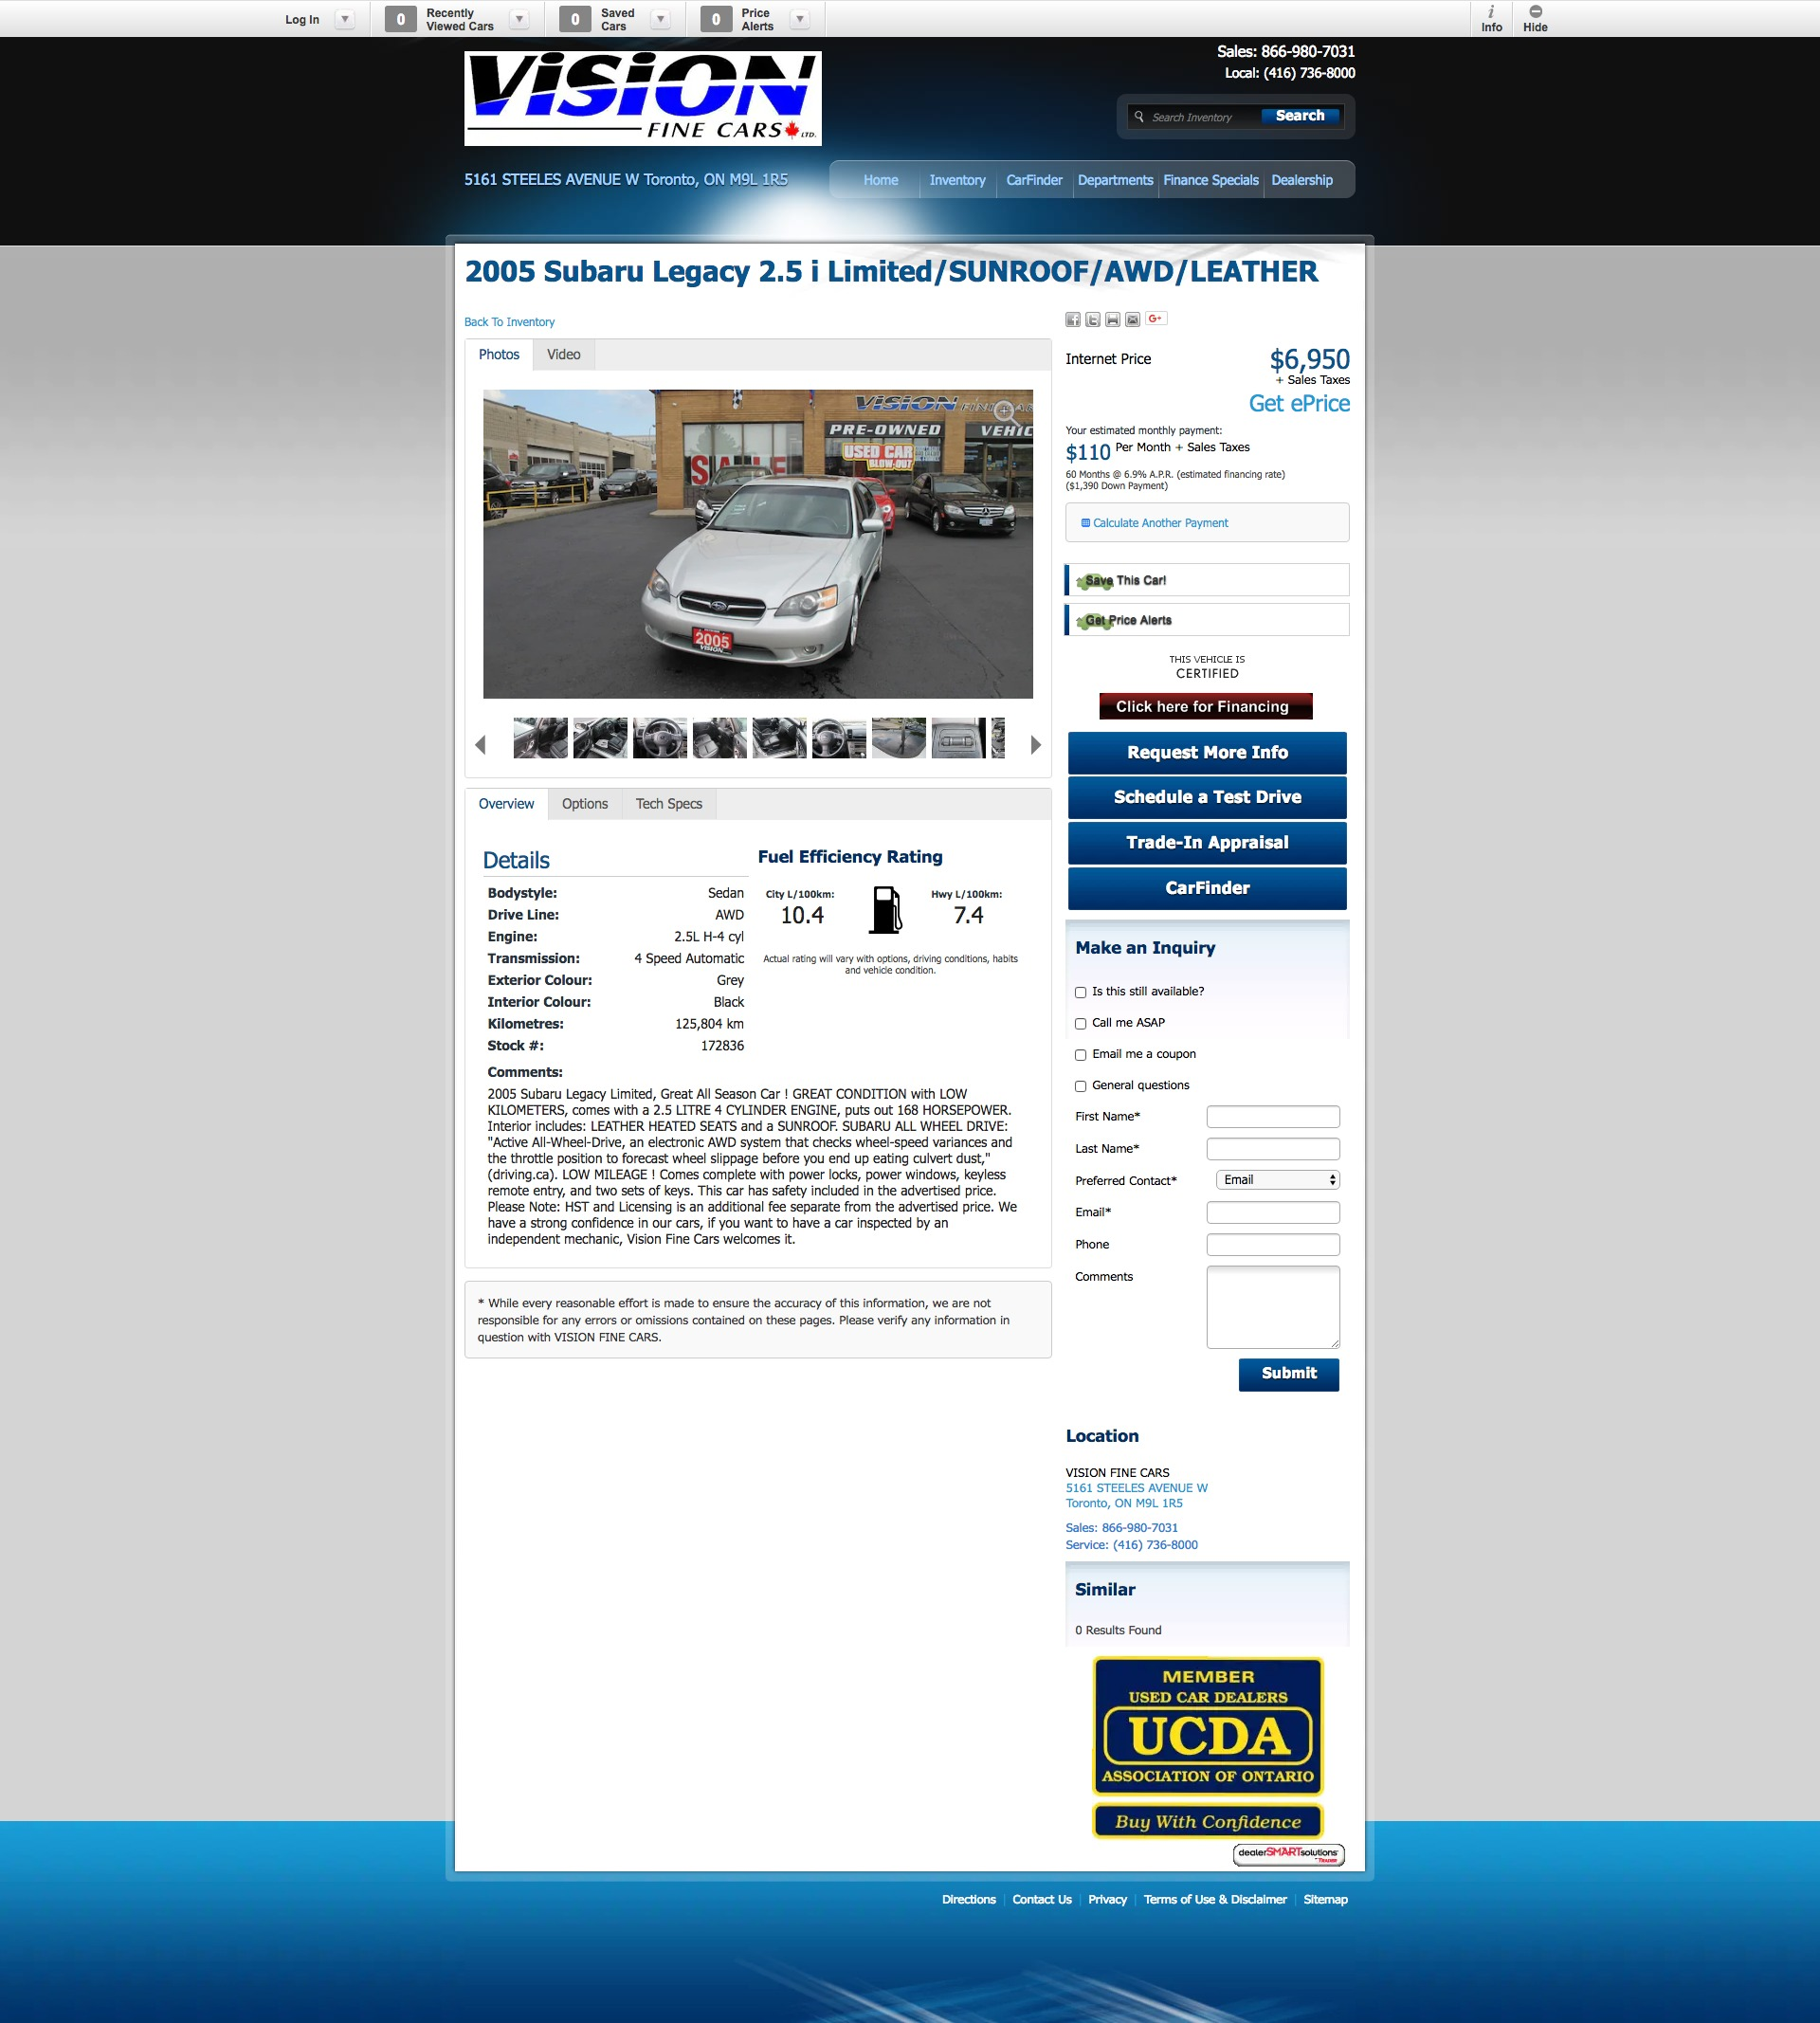car: (1031, 734, 1044, 757)
